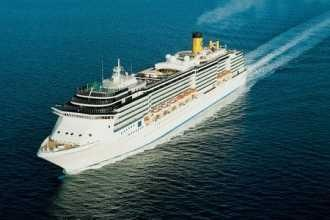youlun: (34, 25, 250, 175)
